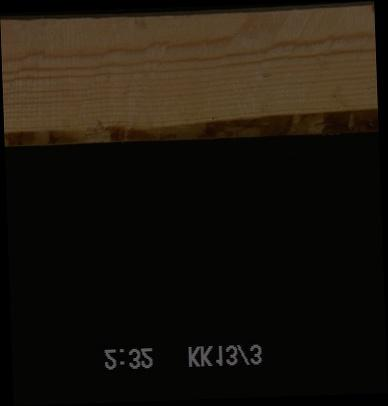wave: (3, 113, 378, 139)
